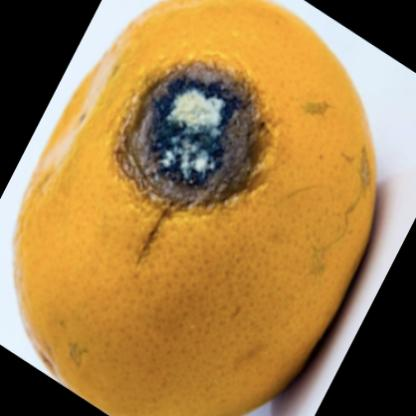rotten: (17, 2, 378, 416)
